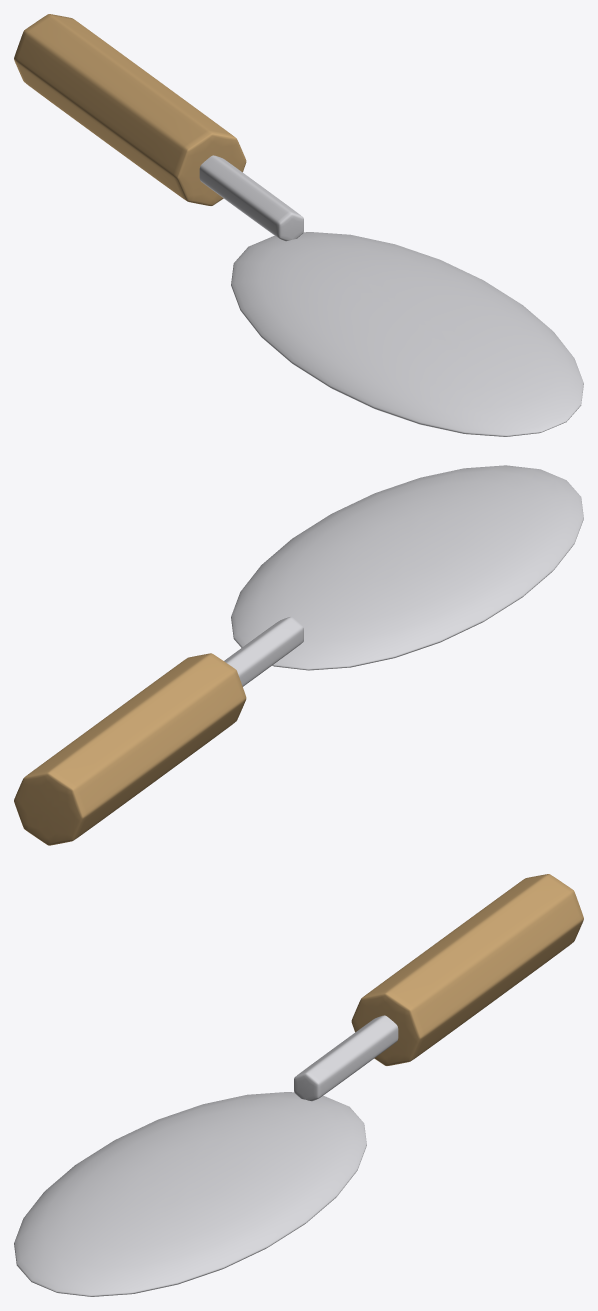
The model's file is trowel.glb.
The picture shows the model from 3 angles, top to bottom: view 1: azimuth 30°, elevation 25°; view 2: azimuth 150°, elevation 25°; view 3: azimuth 330°, elevation 25°; orthographic projection.
Visible parts, largest first — view 1: trowel; view 2: trowel; view 3: trowel.
Part boxes in pixels (x1=…): trowel: x1=14, y1=14, x2=583, y2=436; trowel: x1=14, y1=465, x2=583, y2=845; trowel: x1=14, y1=874, x2=583, y2=1296.
Size of the model in its own units: 0.2268 by 0.076 by 0.8368.
